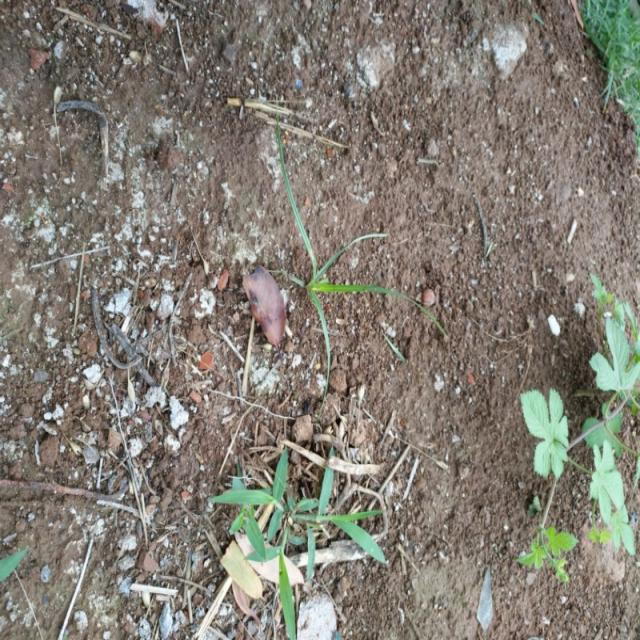sedge: (260, 141, 455, 398)
